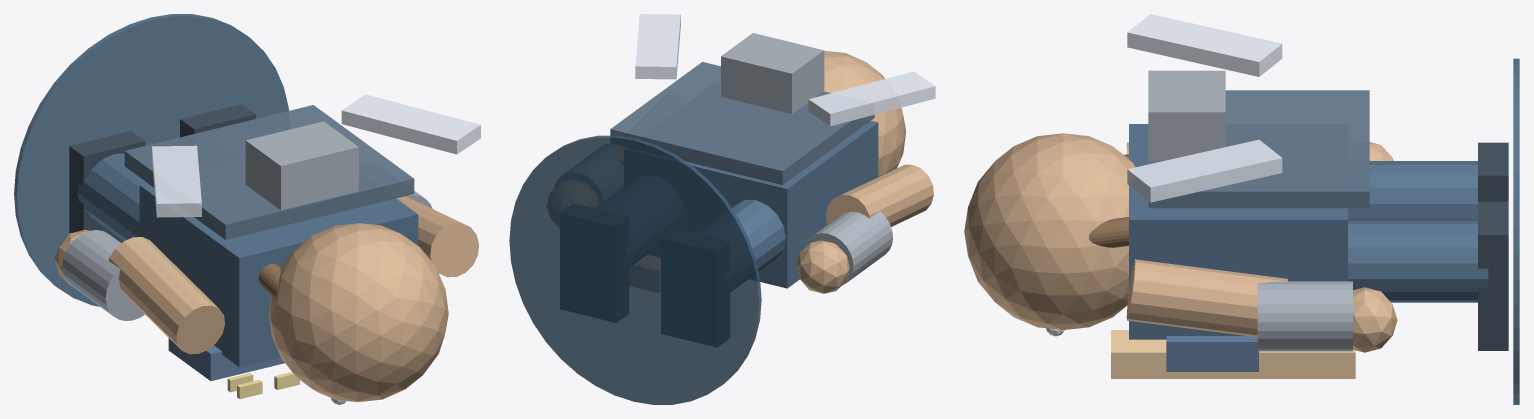
File: SW_NPC_035_jalen_rootwing.glb
3 views of the same model, side by side, from view 1: azimuth 30°, elevation 25°; view 2: azimuth 150°, elevation 25°; view 3: azimuth 270°, elevation 25° (orthographic). The views are drawn at different scales.
Visible parts, largest first — view 1: round_base_plate, head, torso_uniform, storm_cloak, wingpack_core, left_upper_arm, right_wing_rig, left_forearm_gauntlet, left_leg, left_wing_rig, right_upper_arm, left_boot (+4 smaller); view 2: round_base_plate, storm_cloak, torso_uniform, wingpack_core, left_upper_arm, left_wing_rig, head, left_forearm_gauntlet, right_wing_rig, left_leg, left_hand; view 3: head, storm_cloak, torso_uniform, right_leg, right_upper_arm, left_leg, right_forearm_gauntlet, wingpack_core, rank_sash, right_wing_rig, left_wing_rig, right_boot (+5 smaller).
Part boxes in pixels (x1,y1,x2,y2): round_base_plate: (14, 14, 288, 306); head: (268, 223, 448, 402); torso_uniform: (139, 183, 418, 366); storm_cloak: (124, 105, 414, 239); wingpack_core: (245, 121, 358, 210); left_upper_arm: (108, 237, 225, 354); right_wing_rig: (341, 94, 480, 154); left_forearm_gauntlet: (62, 230, 144, 320); left_leg: (77, 153, 147, 240); left_wing_rig: (152, 145, 201, 217); right_upper_arm: (396, 196, 478, 277); left_boot: (69, 131, 145, 242); round_base_plate: (509, 135, 761, 404); storm_cloak: (610, 62, 874, 184); torso_uniform: (686, 121, 878, 288); wingpack_core: (721, 33, 824, 113); left_upper_arm: (825, 164, 933, 226); left_wing_rig: (808, 71, 935, 126); head: (824, 50, 906, 176); left_forearm_gauntlet: (803, 211, 892, 285); right_wing_rig: (635, 14, 680, 79); left_leg: (731, 199, 785, 271); left_hand: (796, 240, 849, 293); head: (964, 133, 1135, 329); storm_cloak: (1148, 90, 1369, 208); torso_uniform: (1129, 124, 1347, 339); right_leg: (1348, 220, 1488, 302); right_upper_arm: (1126, 259, 1288, 337); left_leg: (1348, 161, 1477, 220); right_forearm_gauntlet: (1257, 281, 1352, 351); wingpack_core: (1148, 70, 1225, 160); rank_sash: (1111, 330, 1355, 378); right_wing_rig: (1127, 139, 1282, 202); left_wing_rig: (1127, 14, 1282, 76); right_boot: (1478, 201, 1508, 350).
Size of the model in its own units: 1.26 by 1.05 by 1.68.
